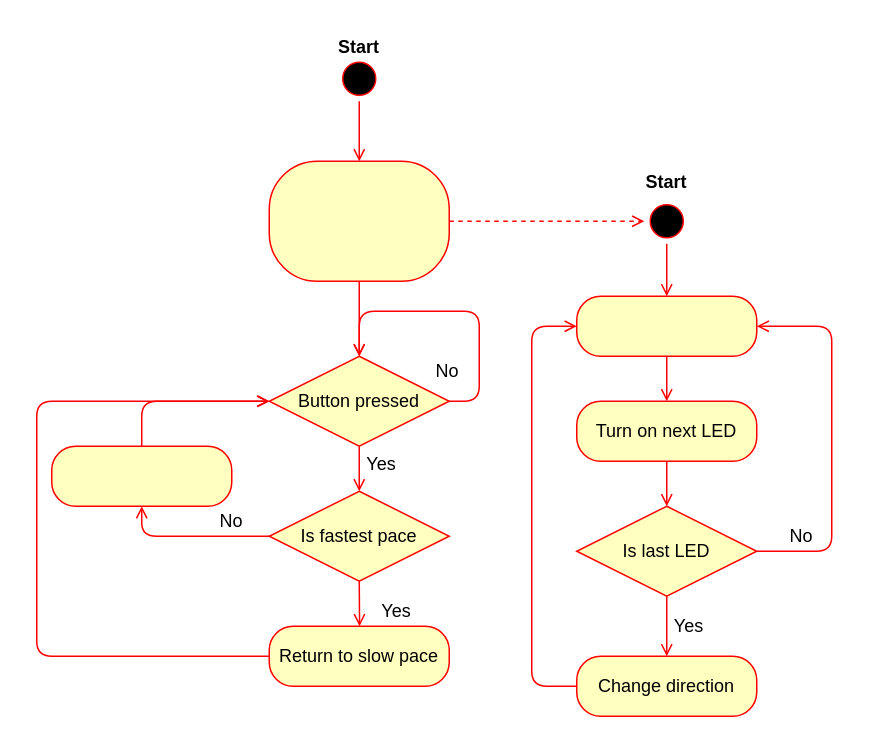
This 873x743 diagram has some shape labels left out. Here are the shapes that lost their labels. From the top down, the box of each, then its label:
(268, 160, 449, 281): Init Timer Init Button Init GPIO Enable Interrupts Turn on first LED
(575, 295, 757, 356): Wait for Interrupt
(50, 445, 232, 506): Increase pace
